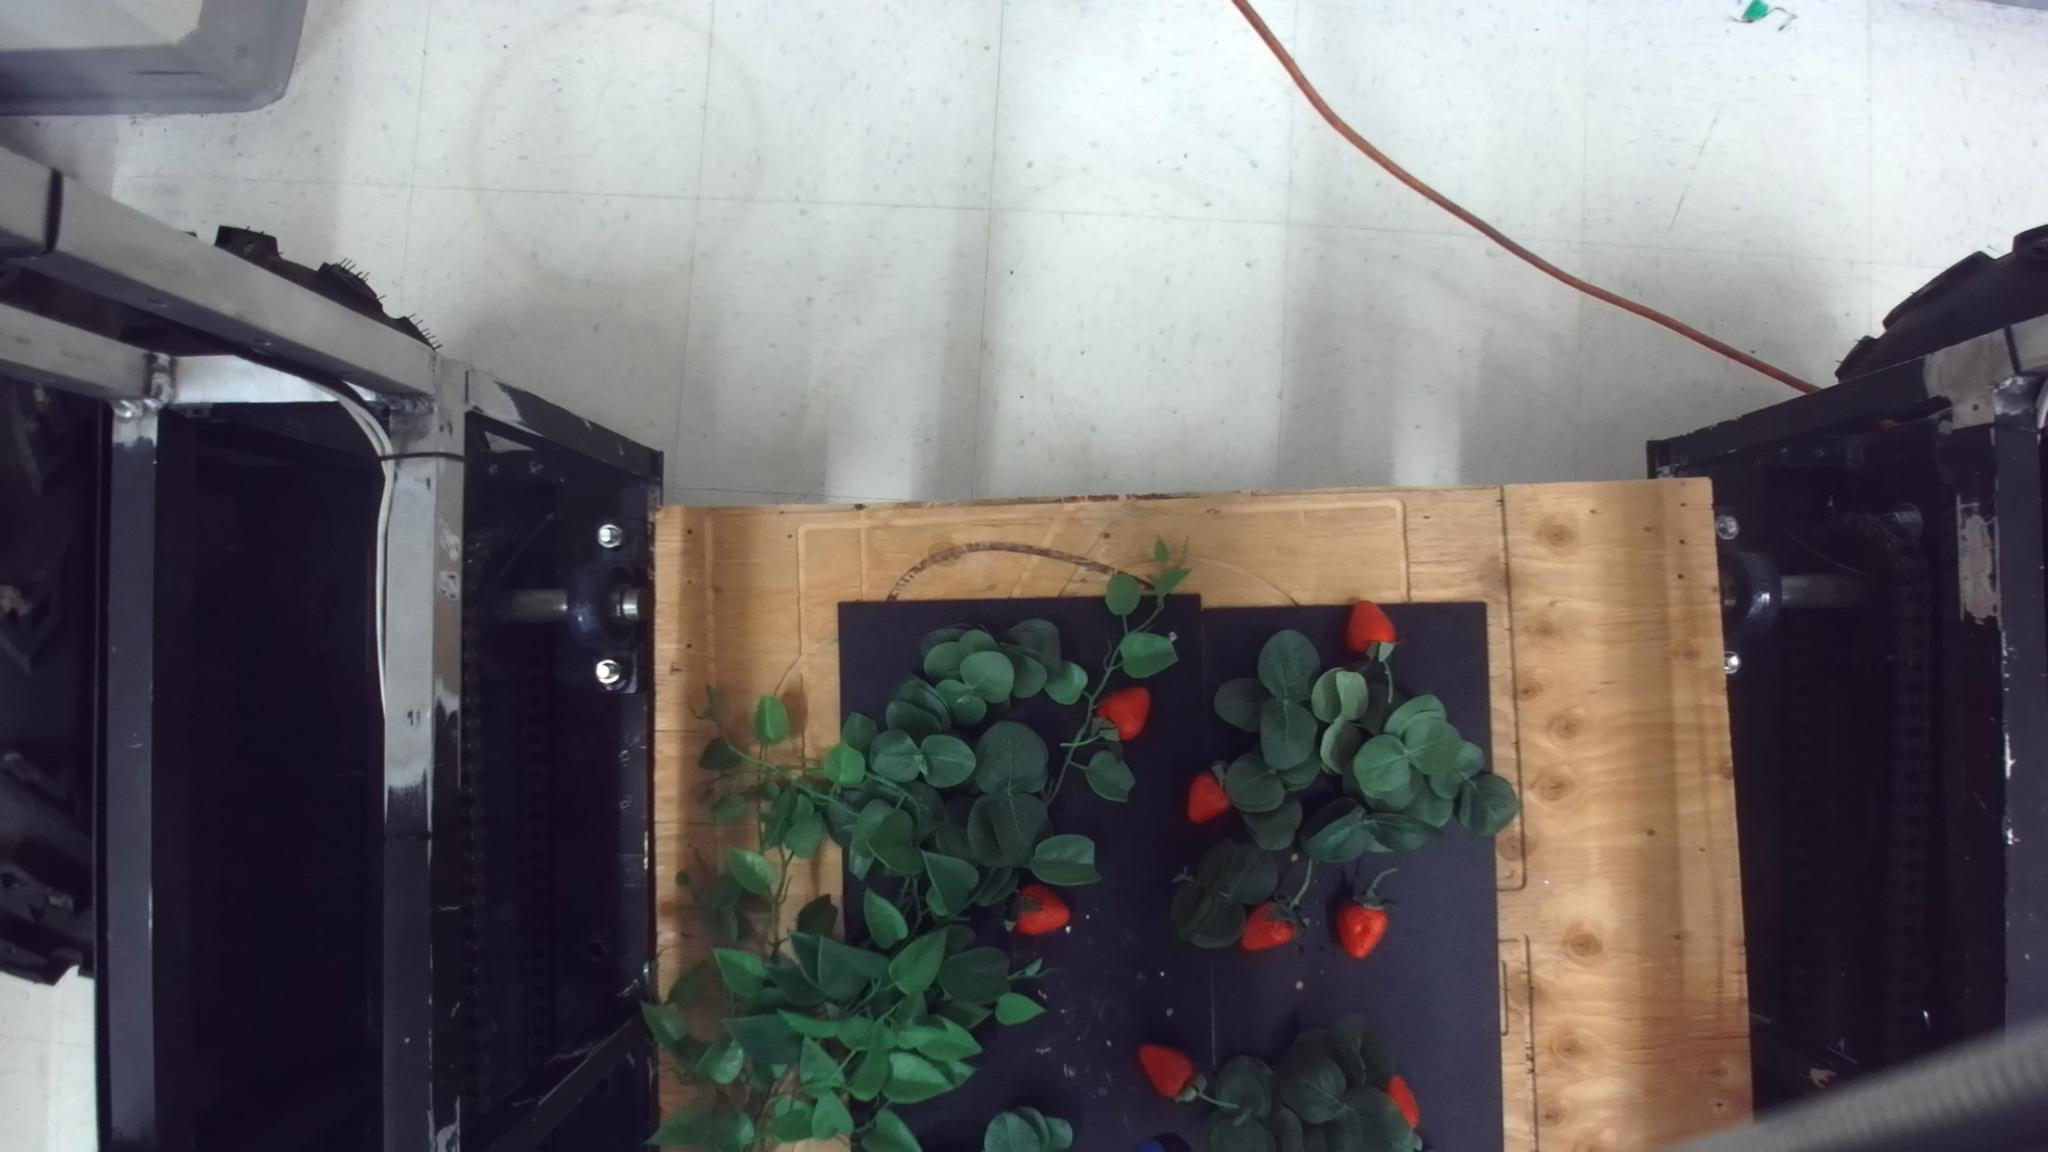mature: (1332, 895, 1400, 959), (1137, 1042, 1204, 1104), (1001, 882, 1070, 935), (1343, 598, 1397, 660), (1093, 685, 1151, 741), (1241, 897, 1300, 952), (1187, 765, 1232, 823), (1383, 1075, 1421, 1129)
